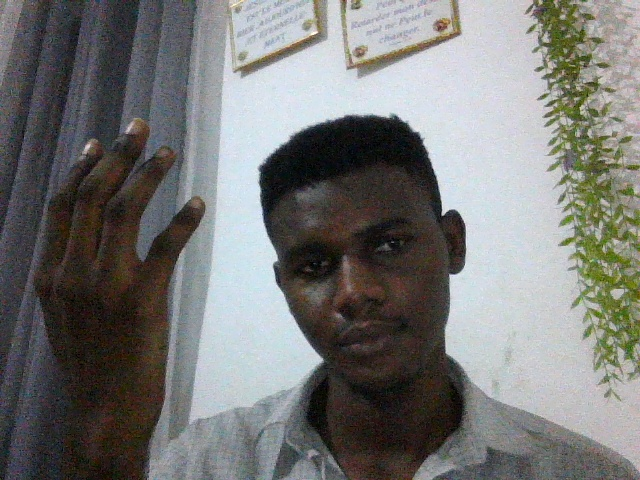hand: (31, 119, 203, 435)
